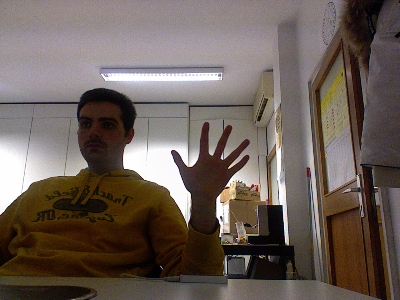布: (169, 121, 250, 199)
